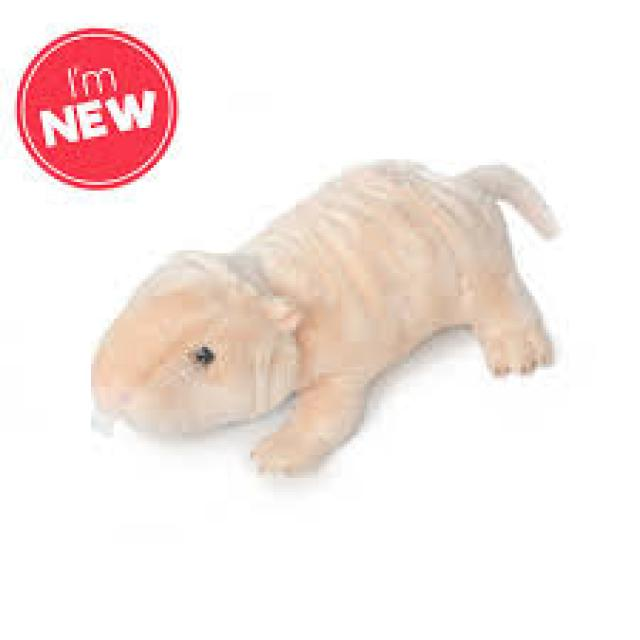rat: (89, 153, 560, 478)
